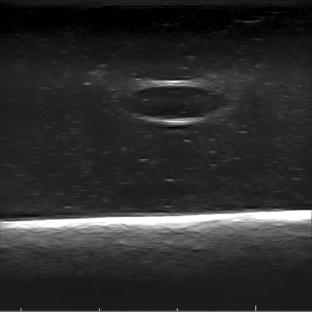vessel: (124, 80, 228, 125)
